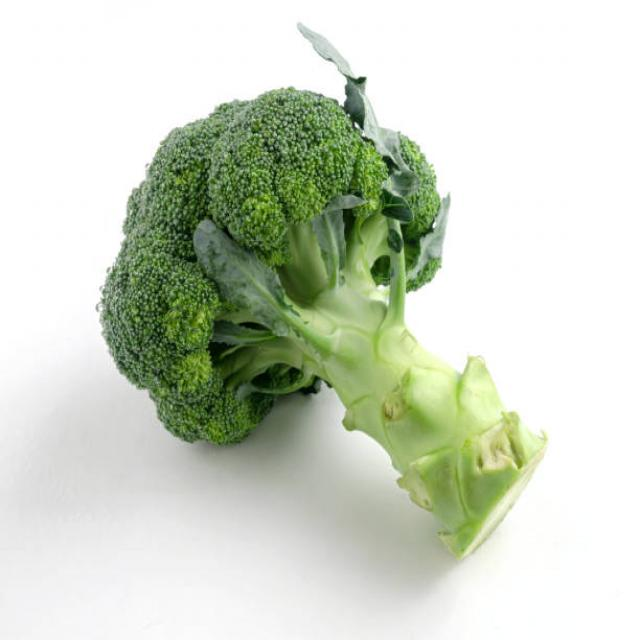Broccoli head: (68, 39, 566, 592)
